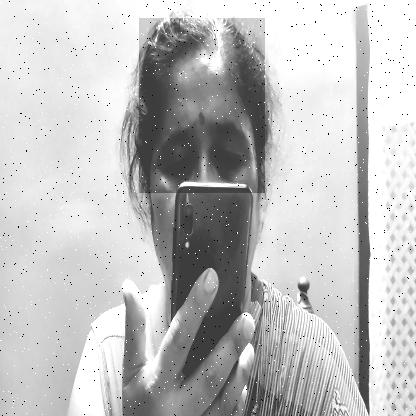Distracted: (139, 18, 265, 193)
